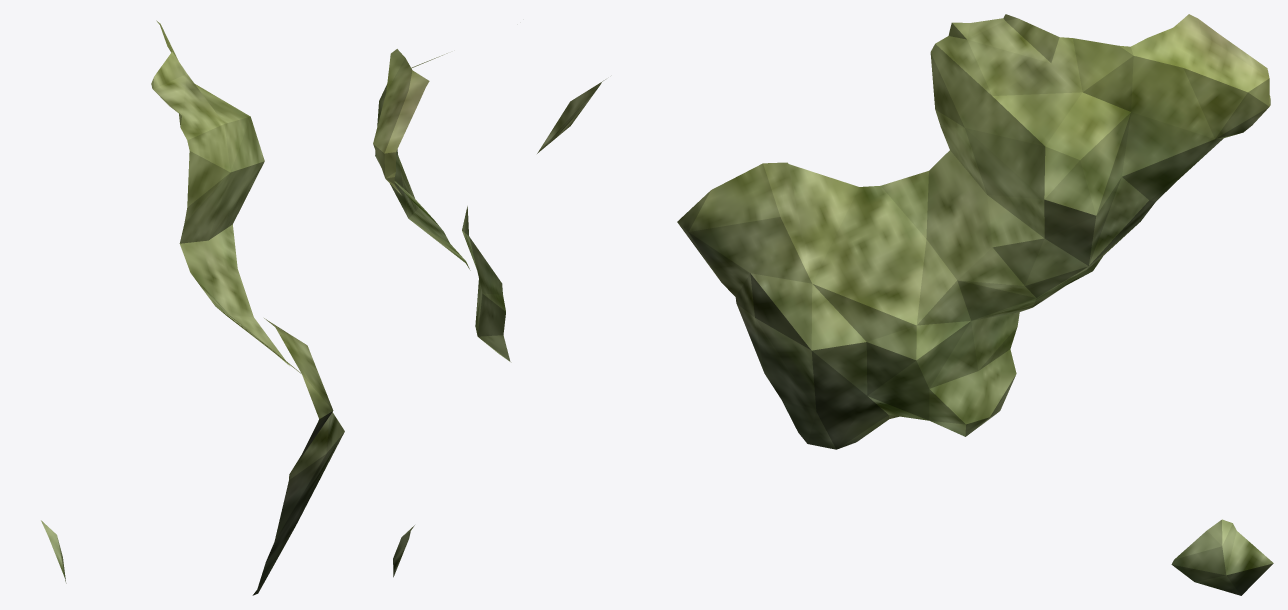
3 renders of one model, left to right at view 1: azimuth 30°, elevation 25°; view 2: azimuth 150°, elevation 25°; view 3: azimuth 270°, elevation 25°, orthographic. The views are drawn at different scales.
Bounding box in the file's own units: 0.2969 × 1.27 × 1.18.
1 material, 1 textured.
